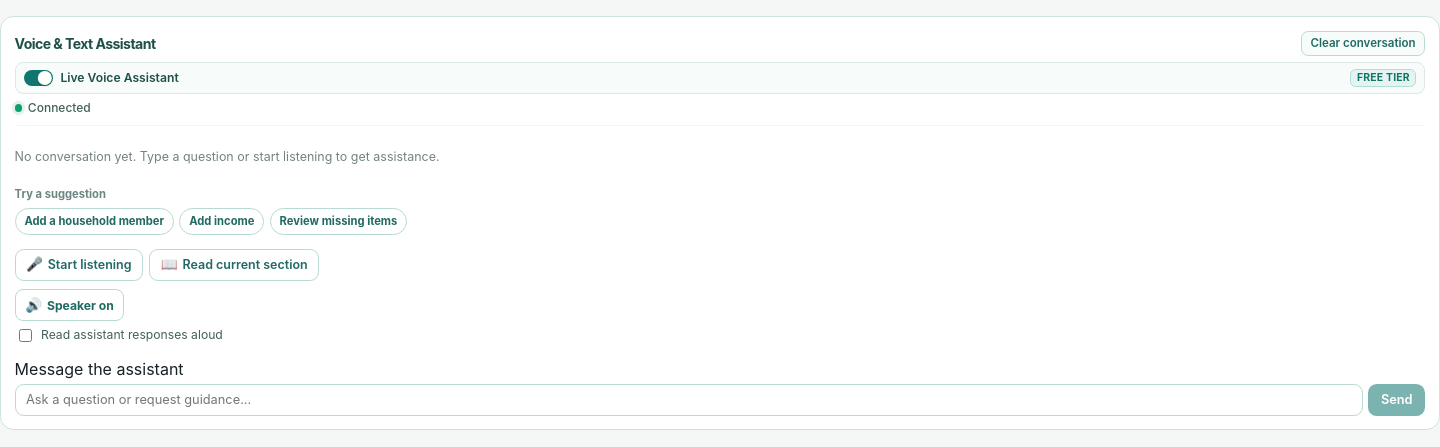
Test: Phase 4 unified assistant panel › stages an empty-chat suggestion without sending or executing it
Click the button "Review missing items".
click(338, 221)  # box [270,208,407,235]
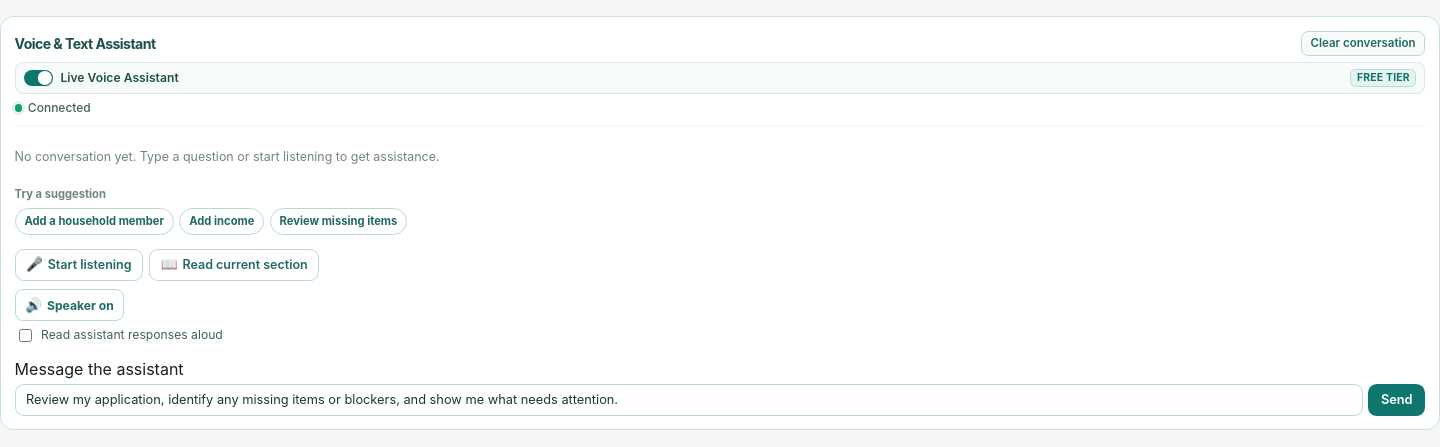
expect the field labelled "Message the assistant" holds "Review my application, identify any missing items or blockers, and show me what needs attention.": met, box [15,384,1362,416]
